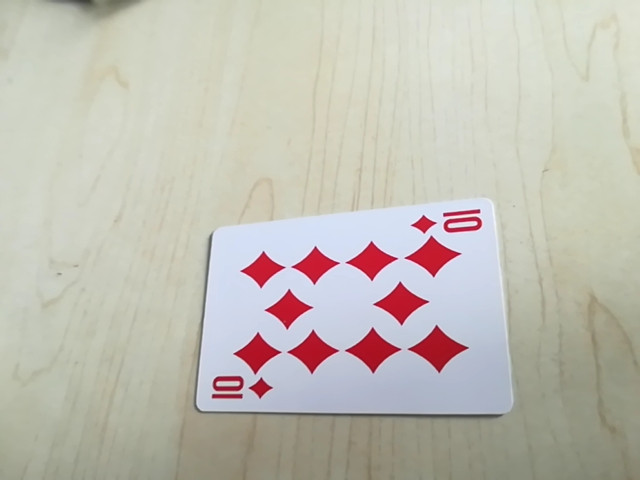fk 10: (411, 202, 490, 239), (203, 372, 275, 408)
